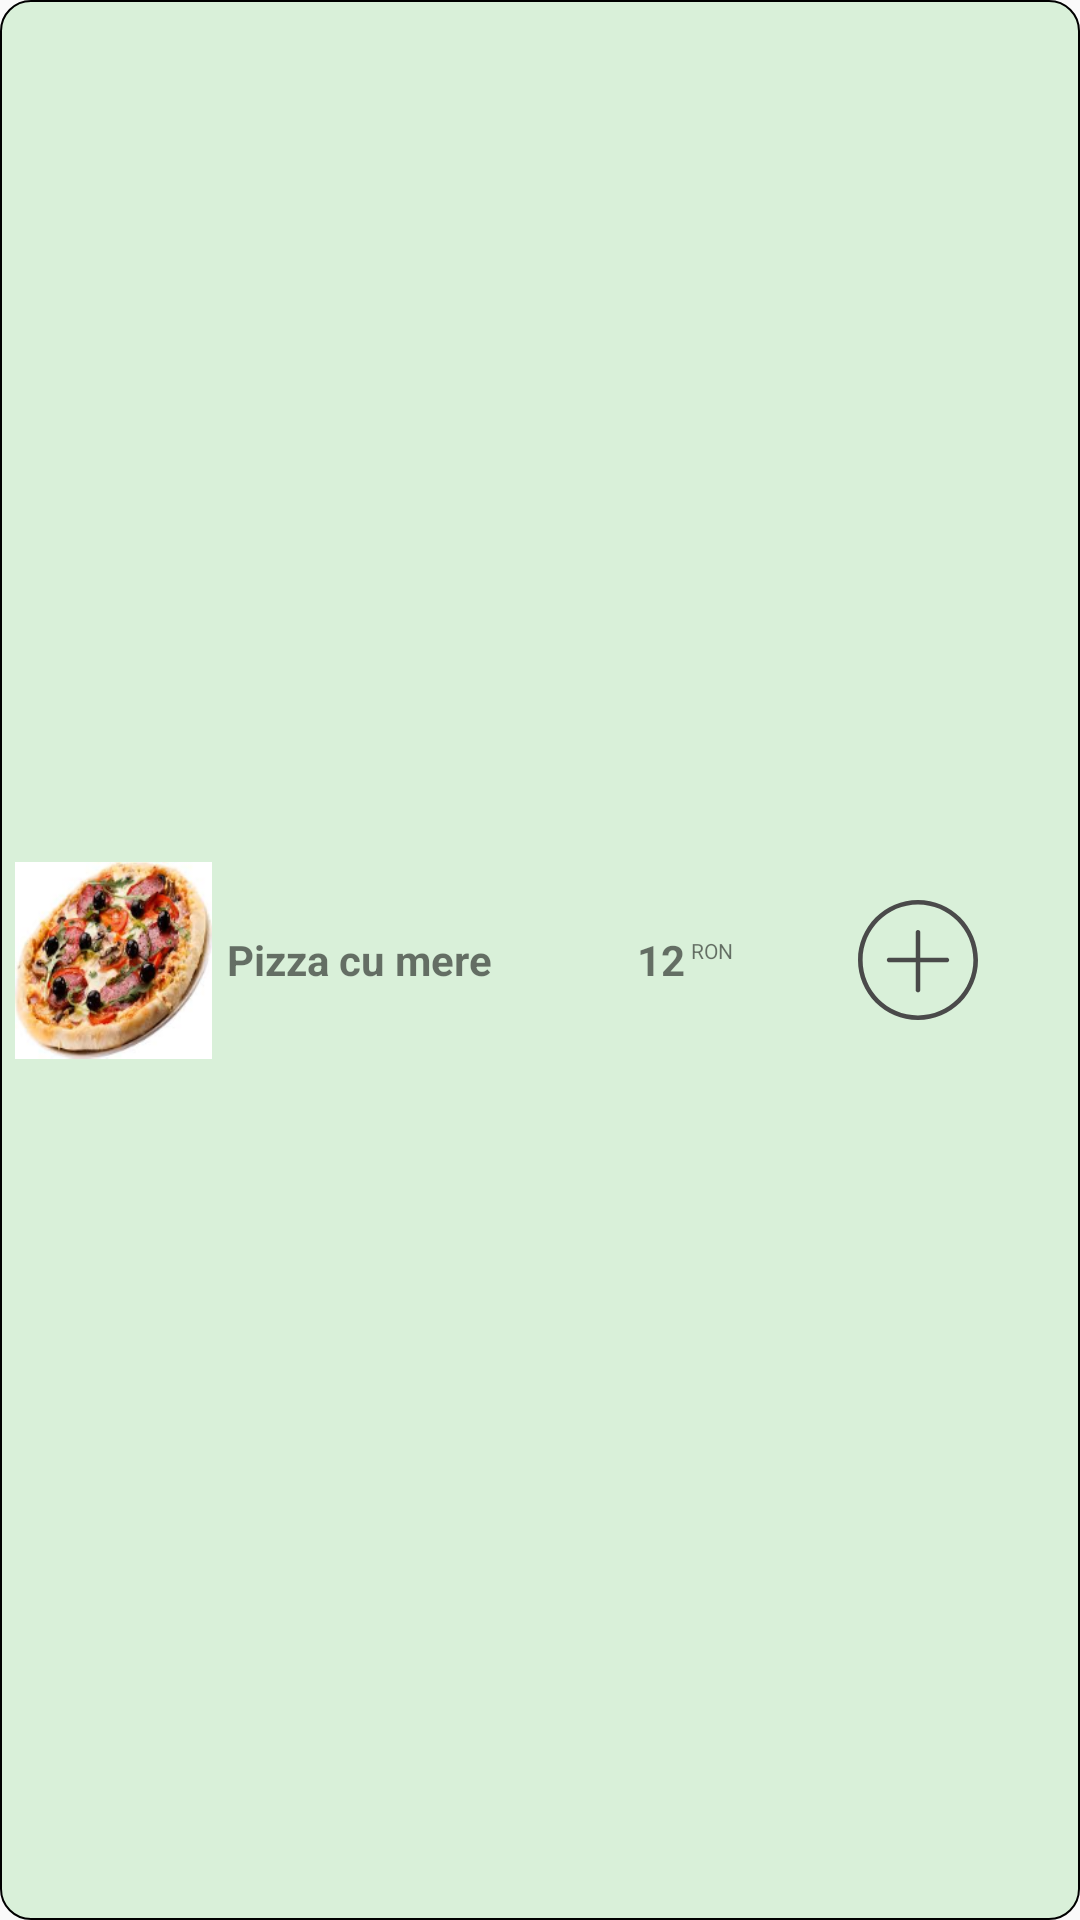

Where icons sit on this 1080 × 1920 app screen, as (x1, y1, x2, y2):
plus: (858, 900, 978, 1020)
